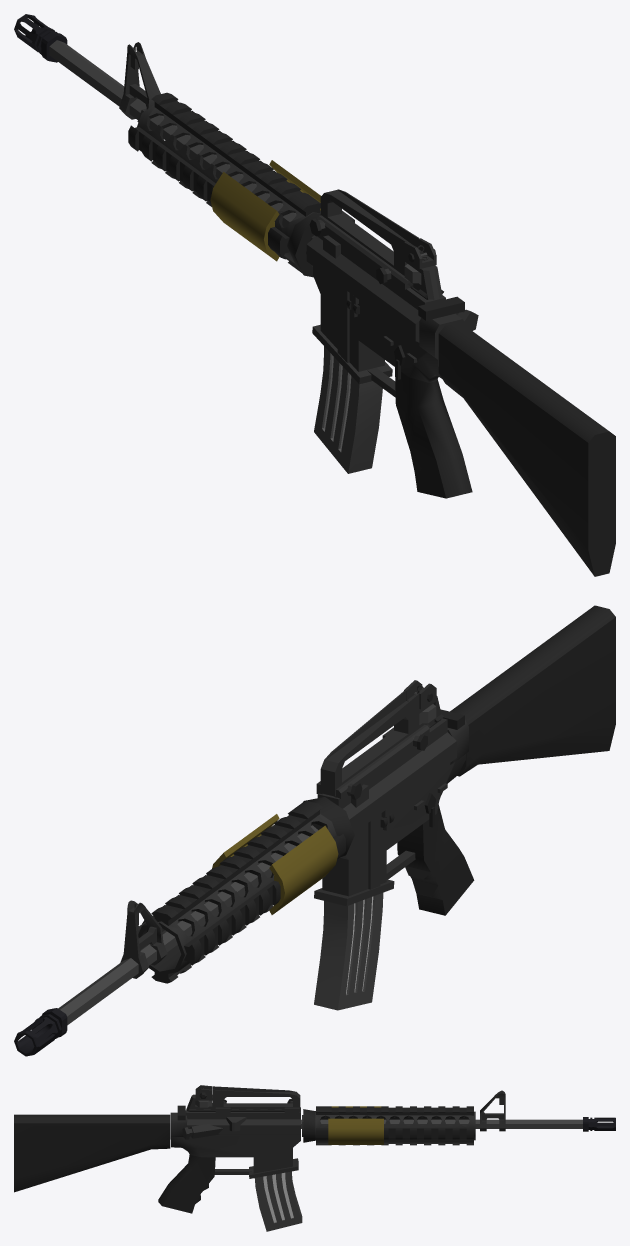
The model's file is guardian.glb.
3 renders of one model, top to bottom at view 1: azimuth 30°, elevation 25°; view 2: azimuth 150°, elevation 25°; view 3: azimuth 270°, elevation 25°, orthographic. The views are drawn at different scales.
Visible parts, largest first — view 1: M16Body_0, RearIronSight_0, CommonFlashHider_0; view 2: M16Body_0, RearIronSight_0, CommonFlashHider_0; view 3: M16Body_0, RearIronSight_0, CommonFlashHider_0.
Part boxes in pixels (x1=…): M16Body_0: x1=49, y1=40, x2=615, y2=576; RearIronSight_0: x1=309, y1=189, x2=442, y2=299; CommonFlashHider_0: x1=14, y1=14, x2=67, y2=62; M16Body_0: x1=58, y1=605, x2=615, y2=1025; RearIronSight_0: x1=316, y1=680, x2=441, y2=799; CommonFlashHider_0: x1=14, y1=1008, x2=67, y2=1056; M16Body_0: x1=14, y1=1090, x2=582, y2=1231; RearIronSight_0: x1=186, y1=1085, x2=300, y2=1113; CommonFlashHider_0: x1=583, y1=1117, x2=615, y2=1131.
Bounding box in the file's own units: 0.0793 × 0.2595 × 1.
Materials: 1 (1 with a texture image).
